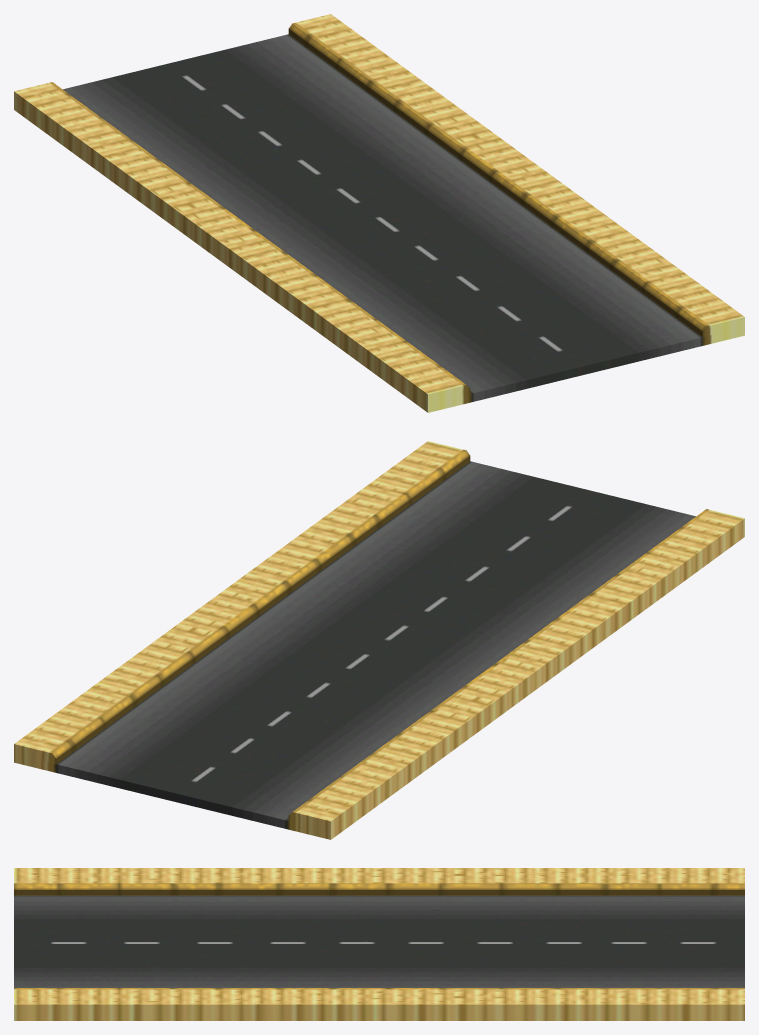
The model's file is Road1.glb.
3 views of the same model, one above another, from view 1: azimuth 30°, elevation 25°; view 2: azimuth 150°, elevation 25°; view 3: azimuth 270°, elevation 25° (orthographic). The views are drawn at different scales.
Visible parts, largest first — view 1: Road1; view 2: Road1; view 3: Road1.
Boxes of the visible parts, bbox=[...] form: Road1: bbox=[14, 14, 744, 412]; Road1: bbox=[14, 441, 744, 839]; Road1: bbox=[14, 868, 744, 1020].
Bounding box in the file's own units: 113 × 6.29 × 255.
Materials: 1 (1 with a texture image).
